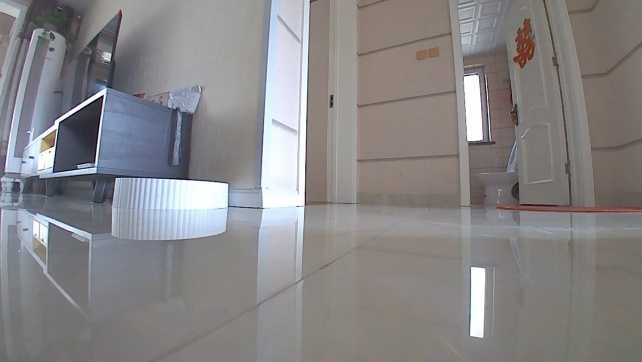TV_stand: (15, 85, 191, 203)
door_anno: (504, 0, 594, 206)
toilet: (474, 139, 518, 205)
